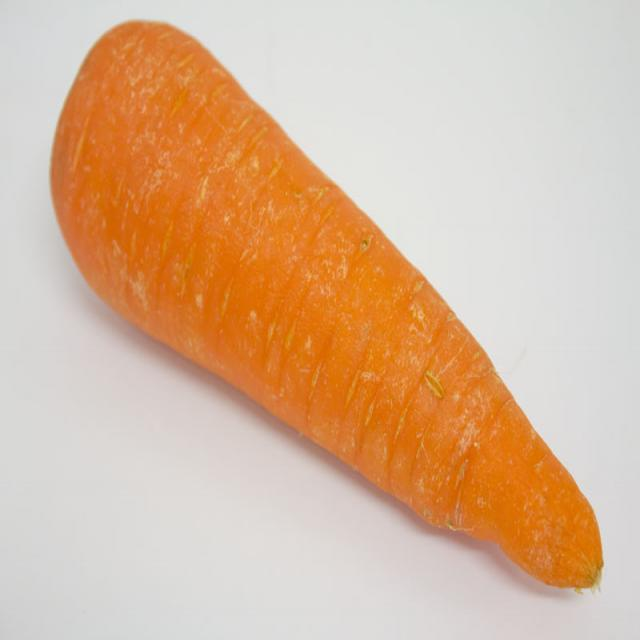Carrot: (45, 20, 607, 595)
